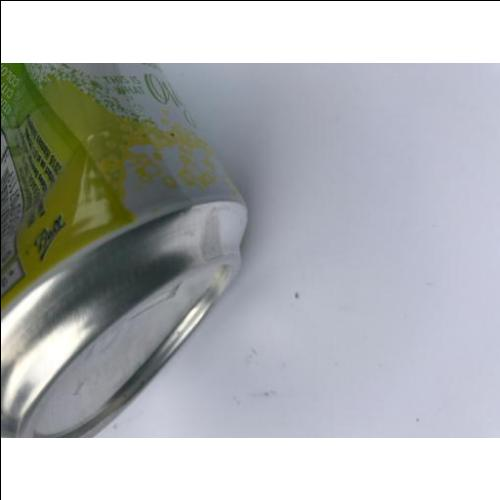metal: (3, 61, 247, 435)
